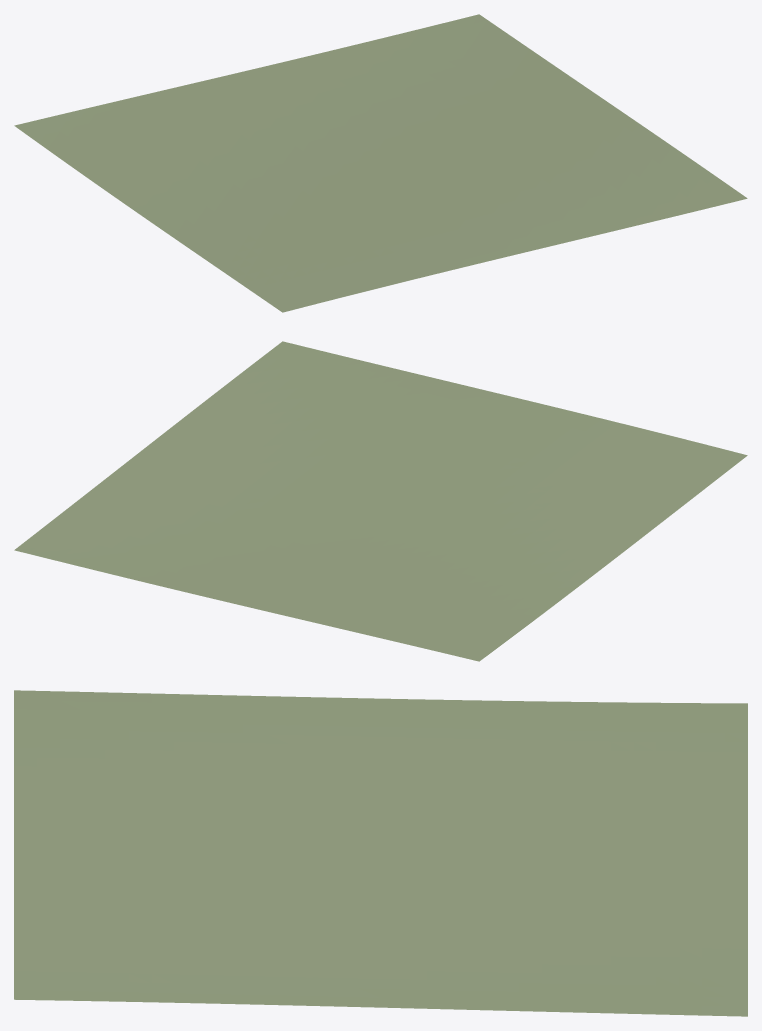
Rendered from expanse-12-0.glb.
3 renders of one model, top to bottom at view 1: azimuth 30°, elevation 25°; view 2: azimuth 150°, elevation 25°; view 3: azimuth 270°, elevation 25°, orthographic. The views are drawn at different scales.
Visible parts, largest first — view 1: expanse-12-0; view 2: expanse-12-0; view 3: expanse-12-0.
Boxes of the visible parts, x1,y1,x2,y2 form: expanse-12-0: [14, 14, 747, 312]; expanse-12-0: [14, 341, 747, 661]; expanse-12-0: [14, 690, 747, 1016].
Size of the model in its own units: 256 by 6.96 by 256.
